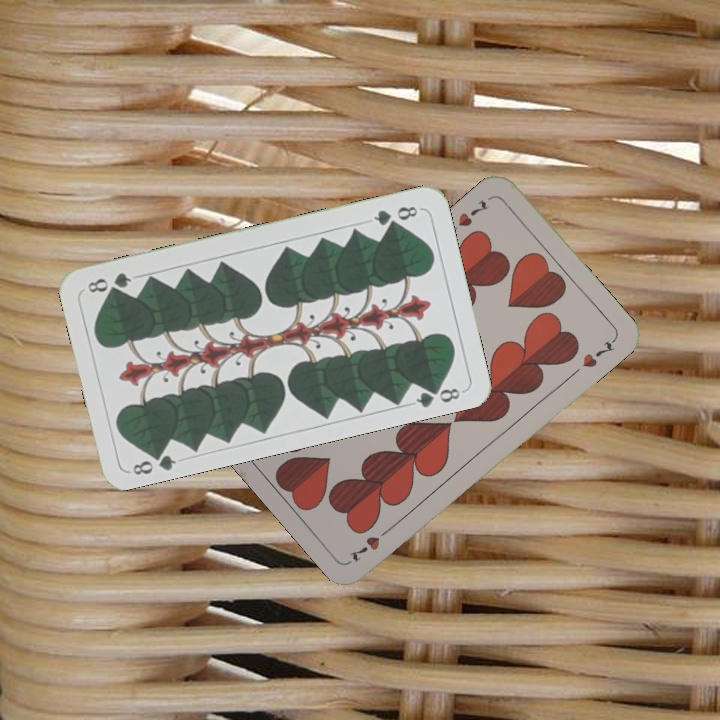G8: (128, 445, 179, 478), (369, 202, 421, 229)
H7: (345, 522, 396, 565), (453, 195, 492, 230)
